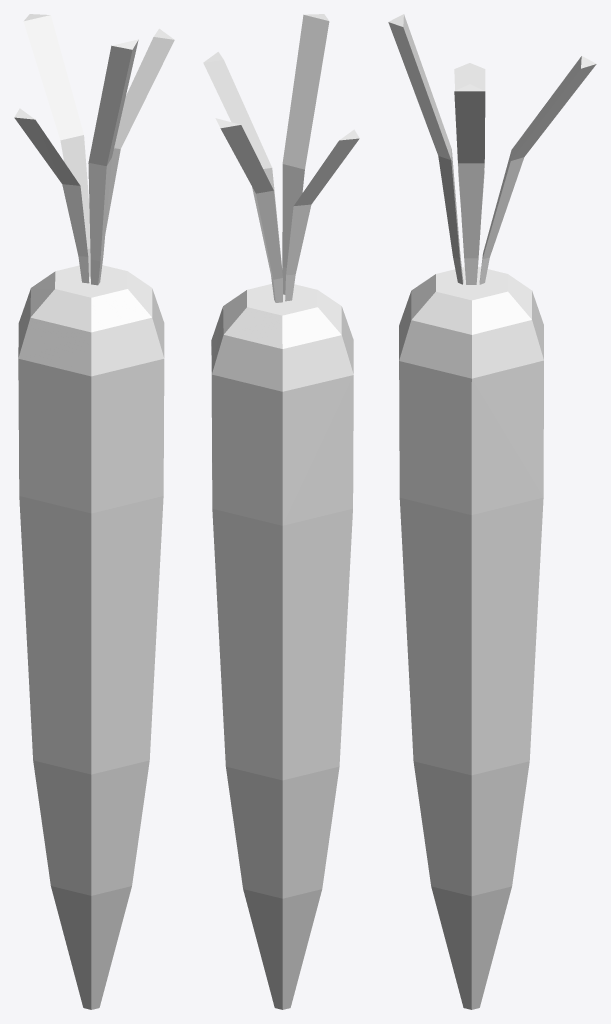
The model's file is Crop_Carrot_02.glb.
The picture shows the model from 3 angles, left to right: view 1: azimuth 30°, elevation 25°; view 2: azimuth 150°, elevation 25°; view 3: azimuth 270°, elevation 25°; orthographic projection. The views are drawn at different scales.
Visible parts, largest first — view 1: Crop_Carrot_02; view 2: Crop_Carrot_02; view 3: Crop_Carrot_02.
Part boxes in pixels (<box>): Crop_Carrot_02: <box>14,14,174,1009</box>; Crop_Carrot_02: <box>203,14,359,1009</box>; Crop_Carrot_02: <box>388,14,596,1009</box>.
Size of the model in its own units: 0.0879 by 0.5432 by 0.1042.
1 material, 1 textured.
